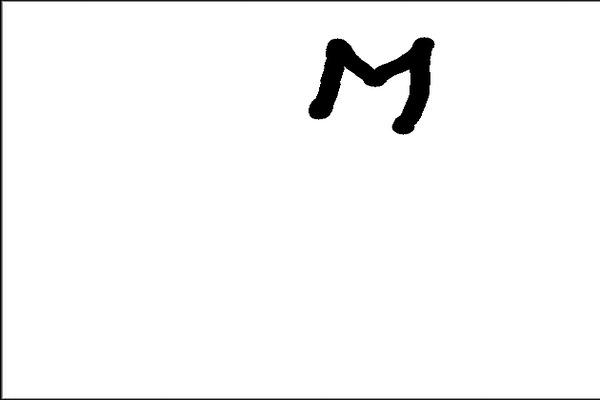M: (306, 32, 433, 132)
